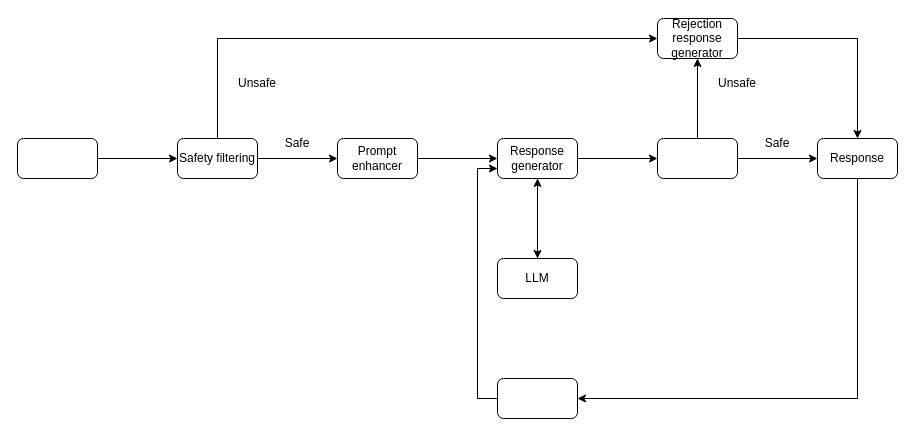
Some shapes in this 915 by 436 pixel diagram are drawn without their labels. The centre of each missing label's shape, as x and y in pixels:
"Query" belongs at (x=57, y=158).
"Response safety evaluator" belongs at (x=697, y=158).
"Session management" belongs at (x=537, y=398).
